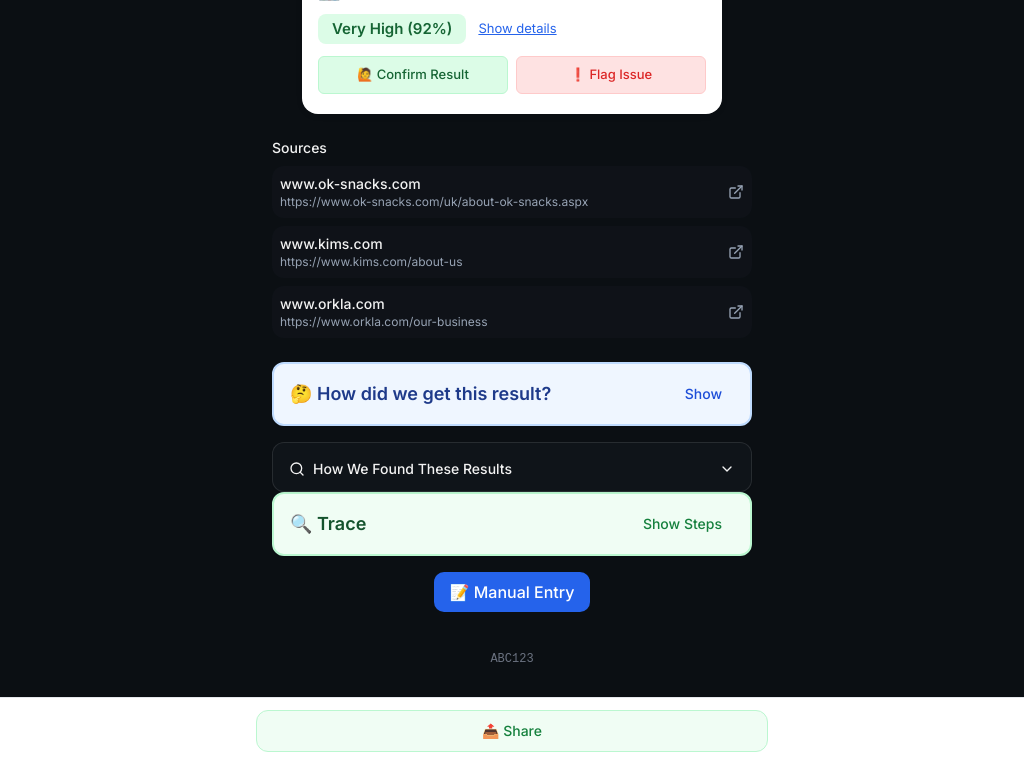
ProductResultScreen E2E Tests › Trace Visualization Accuracy › reflects actual pipeline execution in trace stages
This screenshot has width=1024, height=764.
(page scrolled)
Click the button "Show Steps" at (682, 524), box x1=631 y1=510 x2=734 y2=538
(page scrolled)
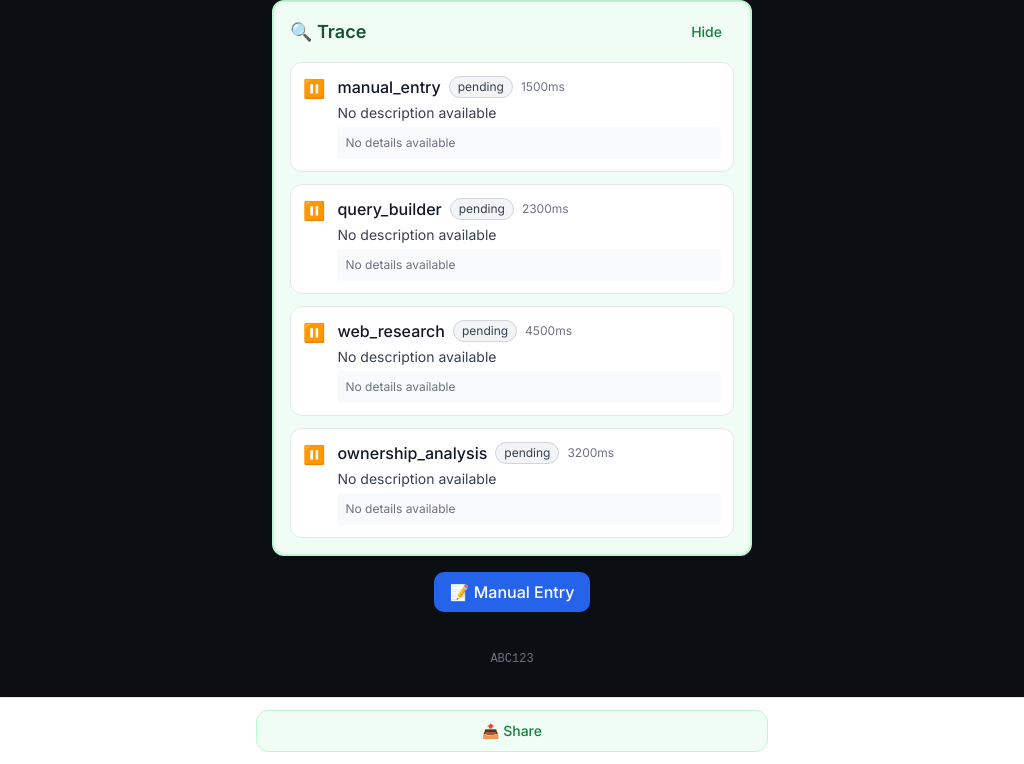
expect the heading "manual_entry" is shown: met, box x1=338 y1=74 x2=441 y2=98
expect the heading "query_builder" is shown: met, box x1=338 y1=196 x2=442 y2=220
expect the heading "web_research" is shown: met, box x1=338 y1=318 x2=445 y2=342
